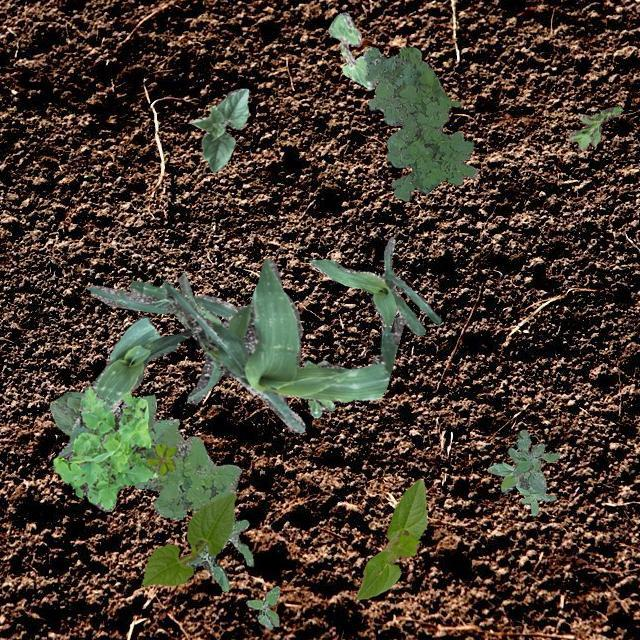crop: (160, 258, 404, 432), (56, 314, 192, 458), (85, 280, 238, 404), (178, 272, 326, 364), (308, 236, 440, 338), (140, 492, 236, 586), (356, 478, 426, 598), (192, 88, 248, 172), (328, 12, 374, 88)
weed: (48, 391, 240, 518), (362, 46, 478, 200), (52, 384, 156, 510), (185, 508, 252, 590), (486, 446, 556, 514), (512, 428, 560, 492), (566, 106, 620, 150), (302, 359, 334, 416), (246, 586, 278, 628), (144, 442, 176, 474)
